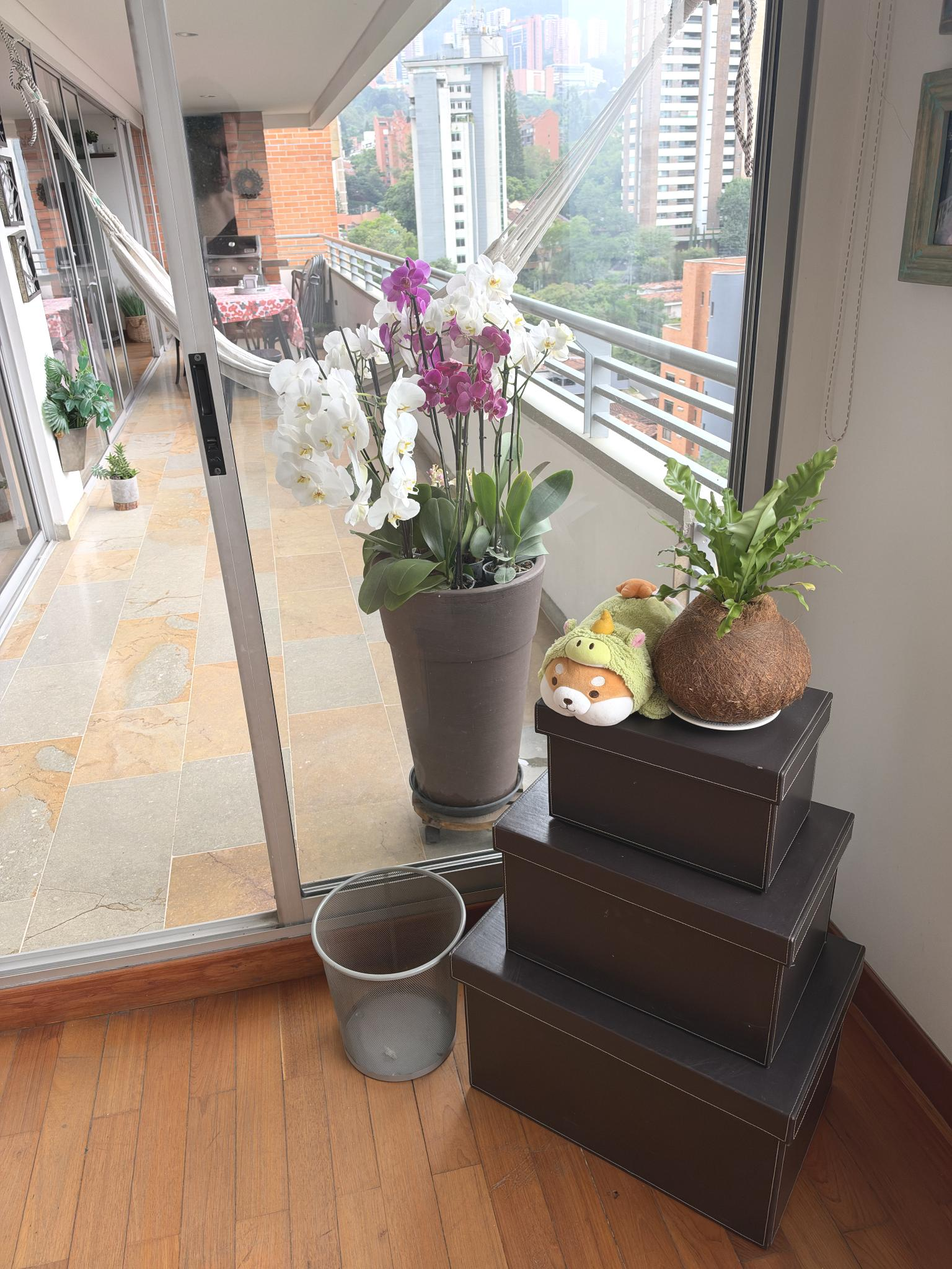peluche_martin: (537, 577, 679, 728)
